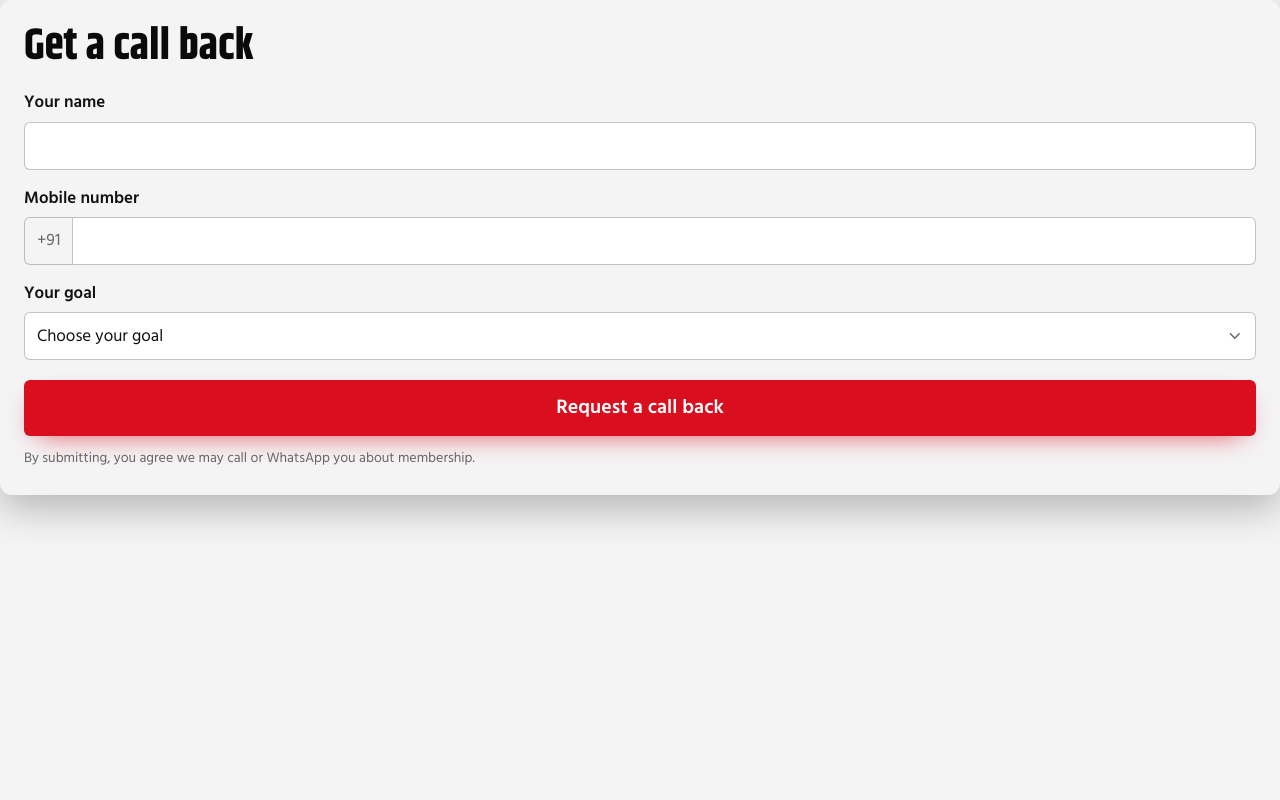
Test: LeadForm › tells the visitor when the network fails
Type "Priya Sharma" into the field labelled "Your name" at {"x": 640, "y": 146}, box [24, 122, 1256, 170]
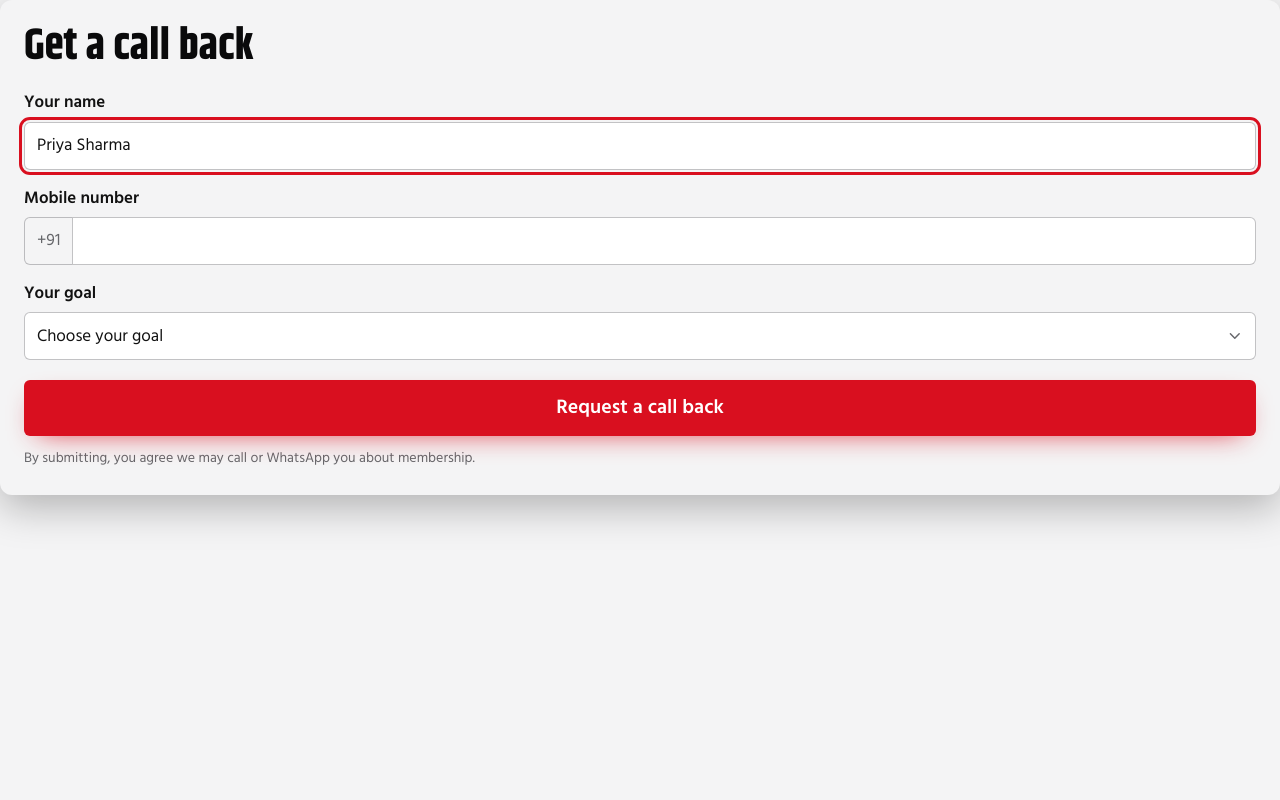
Type "9876543210" into the field labelled "Mobile number" at {"x": 664, "y": 241}, box [72, 217, 1256, 265]
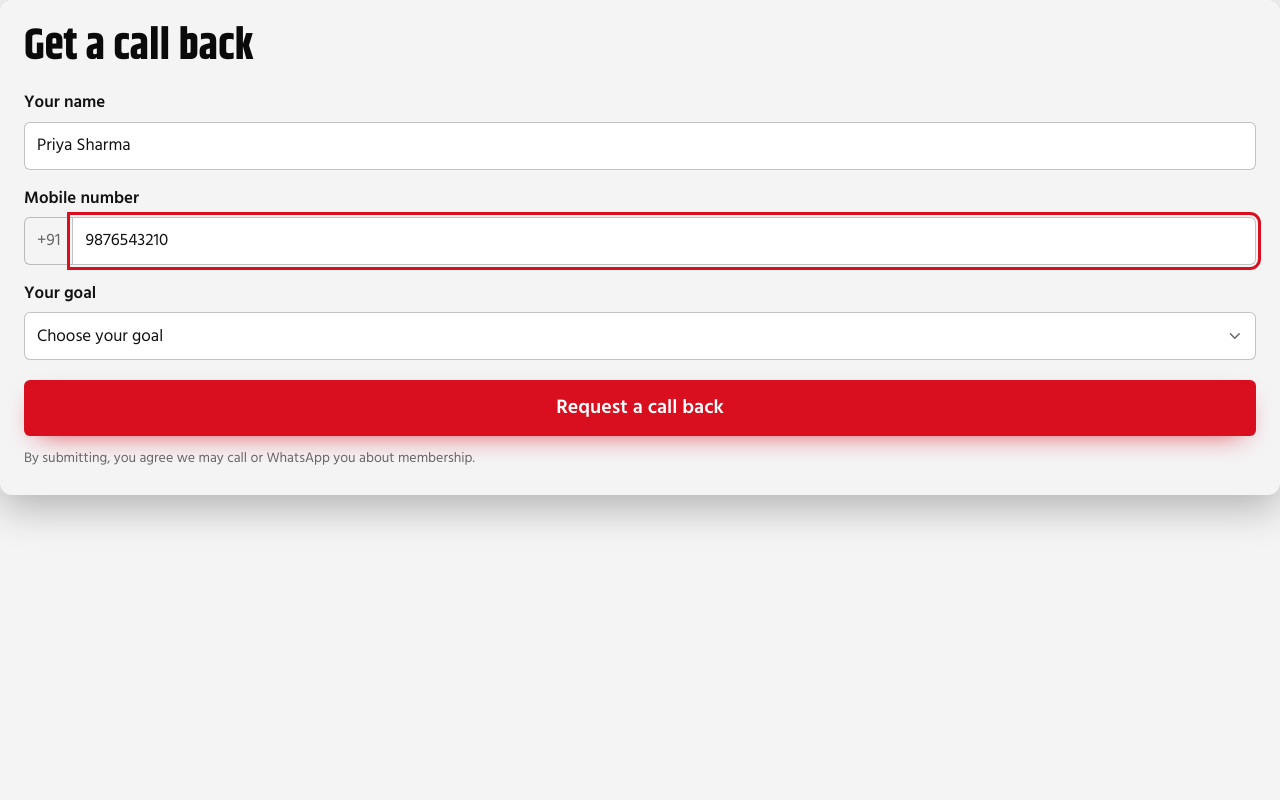
Select "Get fit and active" in the dropdown labelled "Your goal" at {"x": 640, "y": 336}, box [24, 312, 1256, 360]
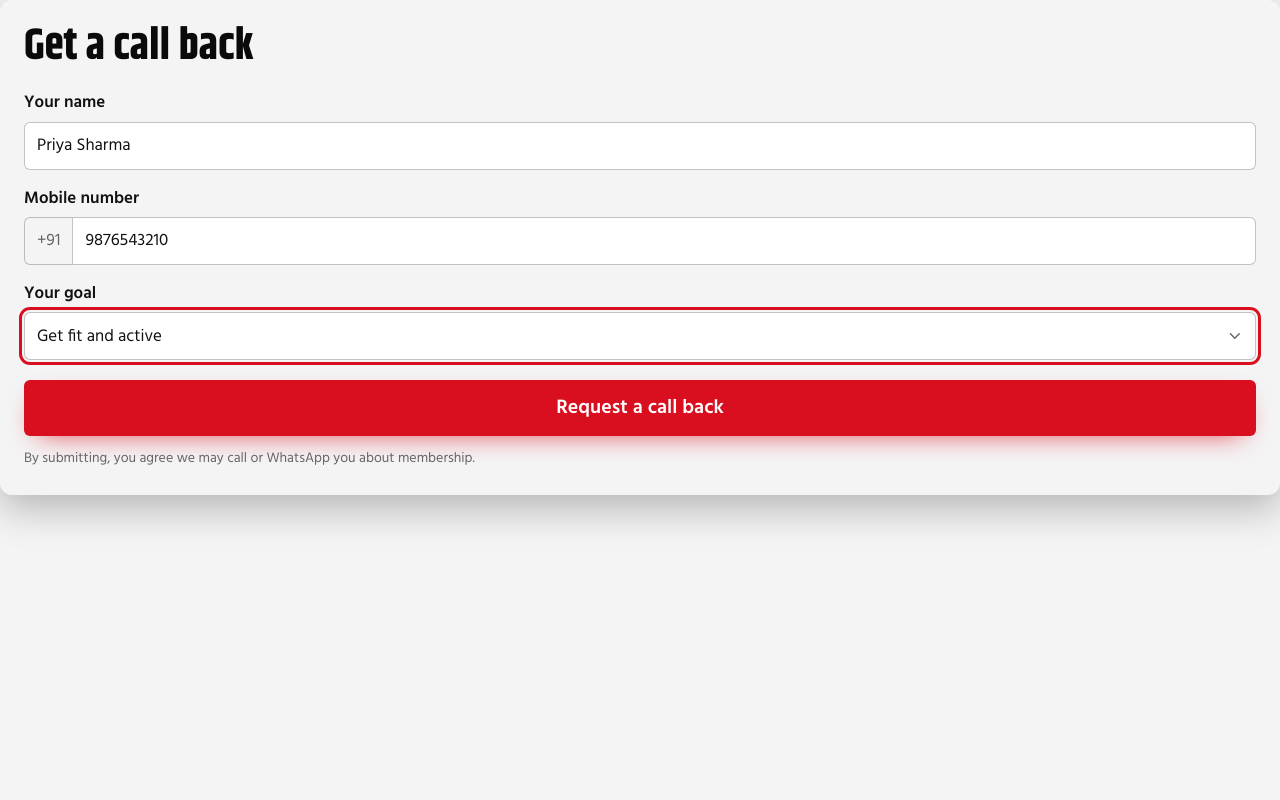
Click the button "Request a call back" at {"x": 640, "y": 408}, box [24, 380, 1256, 436]
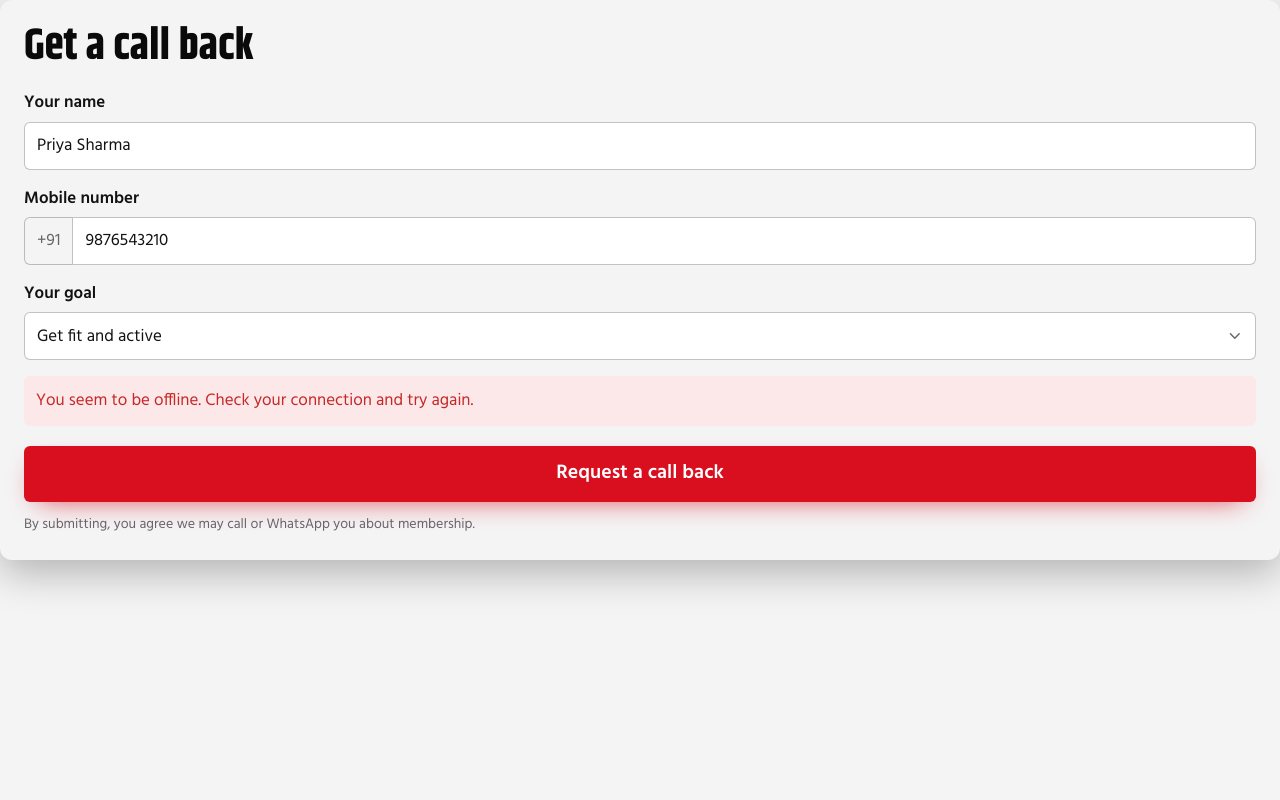
Expected: the text "You seem to be offline. Check your connection and try again." is shown, [24, 376, 1256, 426]
